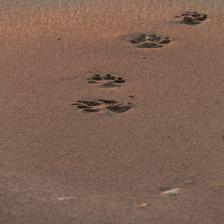dog: (127, 29, 171, 52)
